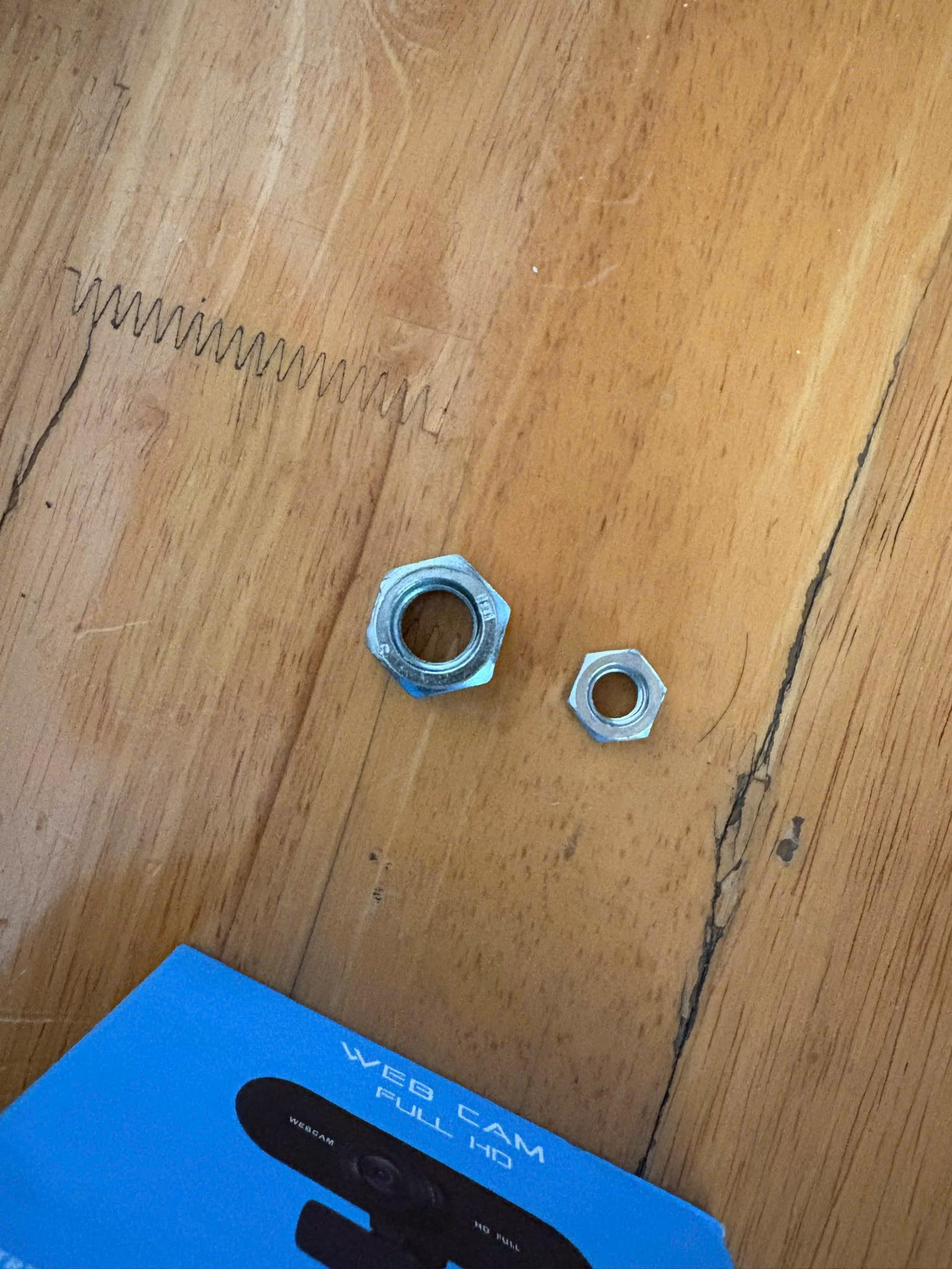nut: (362, 541, 522, 724), (570, 645, 672, 752)
